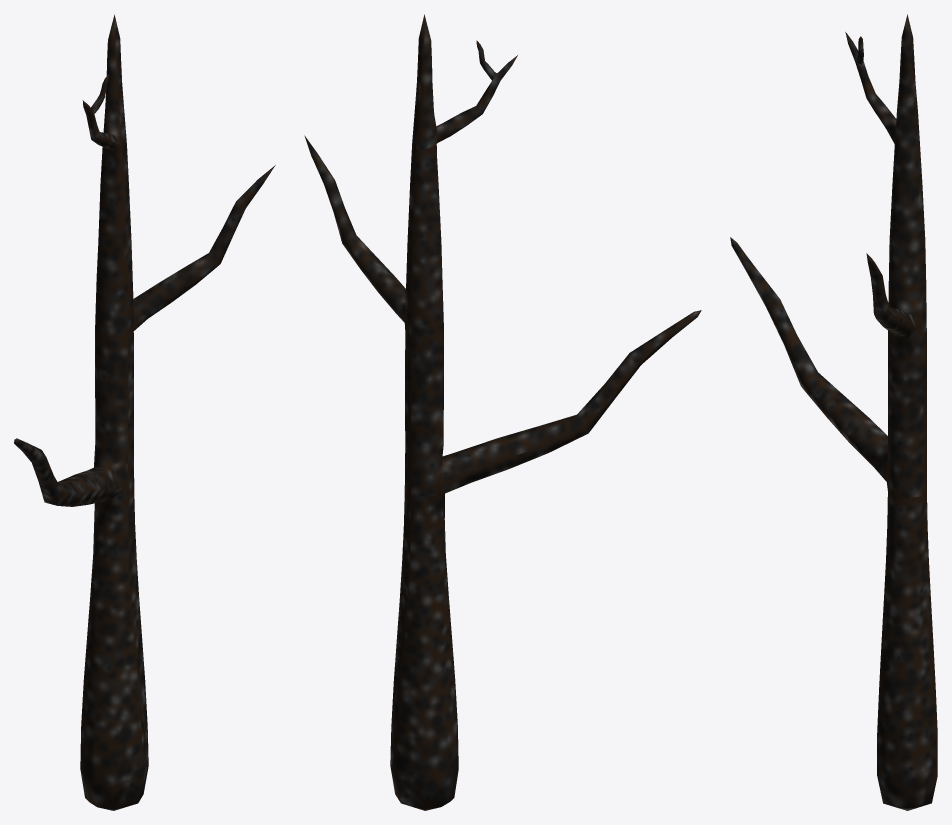
Rendered from Tree.fbx.
3 views of the same model, side by side, from view 1: azimuth 30°, elevation 25°; view 2: azimuth 150°, elevation 25°; view 3: azimuth 270°, elevation 25° (orthographic).
Visible parts, largest first — view 1: Plane; view 2: Plane; view 3: Plane.
Part boxes in pixels (box(x1,y1,x2,y2)): Plane: box(14, 14, 275, 810); Plane: box(304, 14, 701, 810); Plane: box(730, 14, 937, 810).
Bounding box in the file's own units: 2074 × 1130 × 4790.
